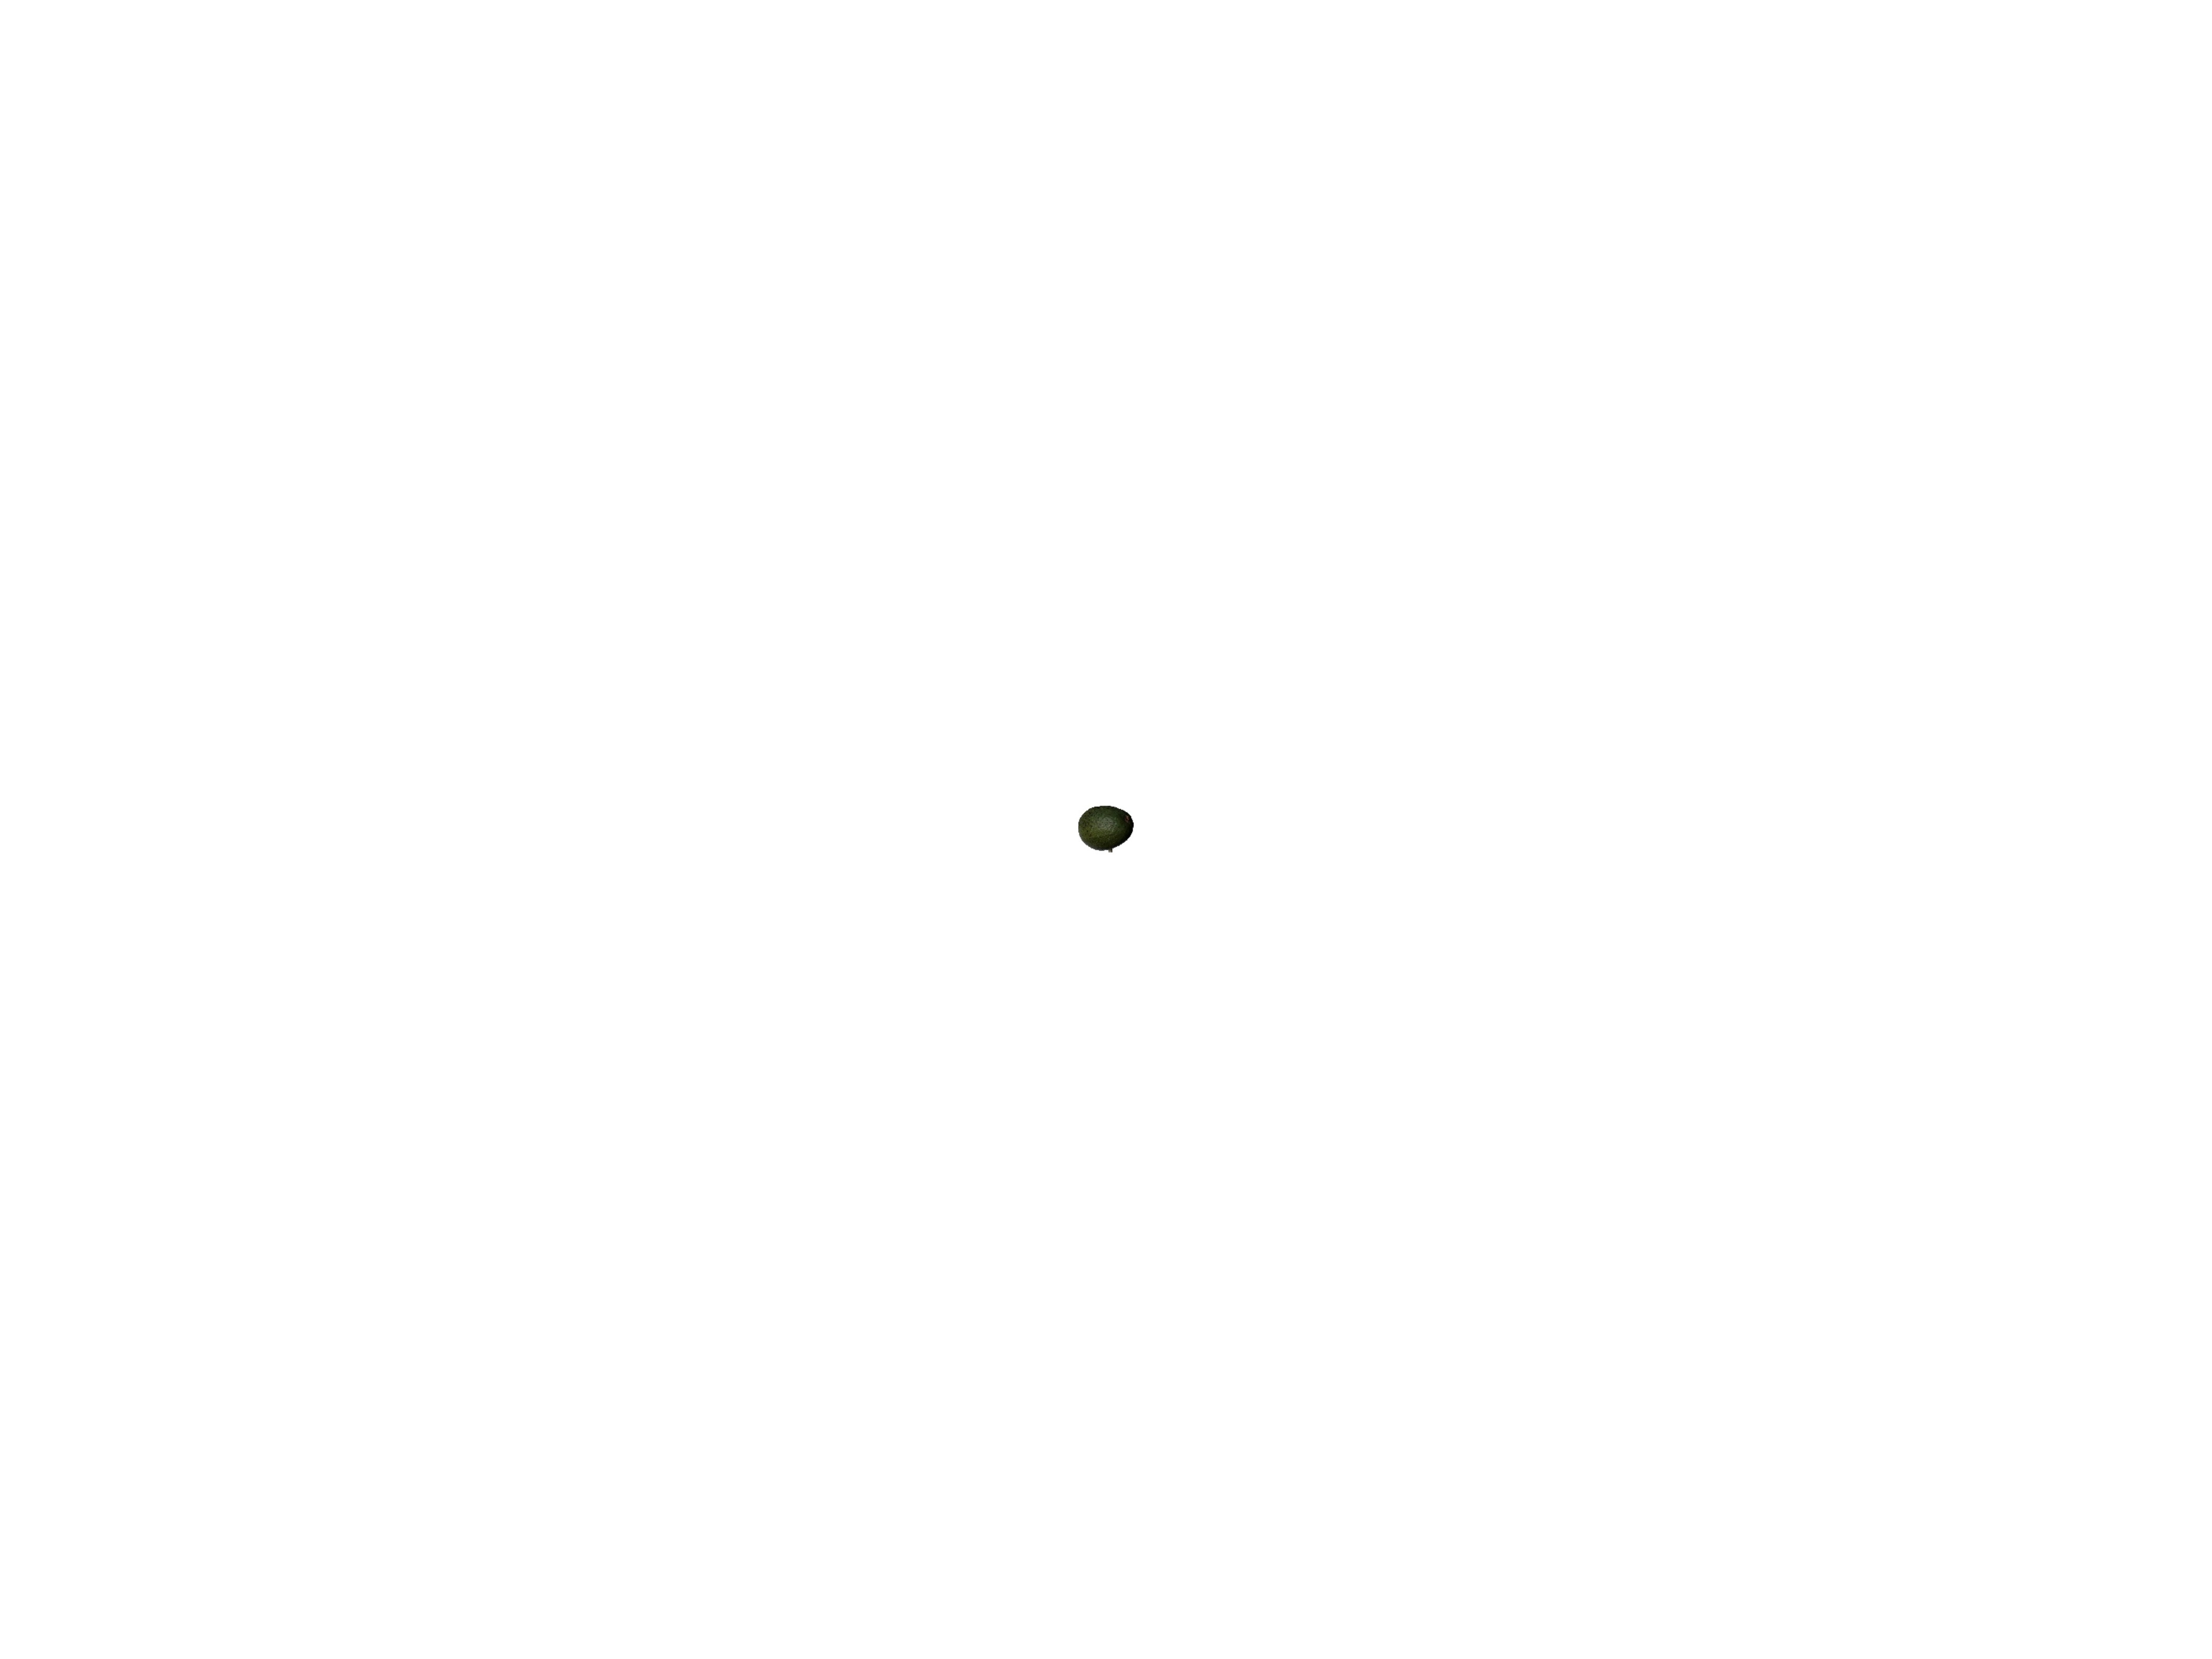abacate: (1071, 800, 1137, 854)
